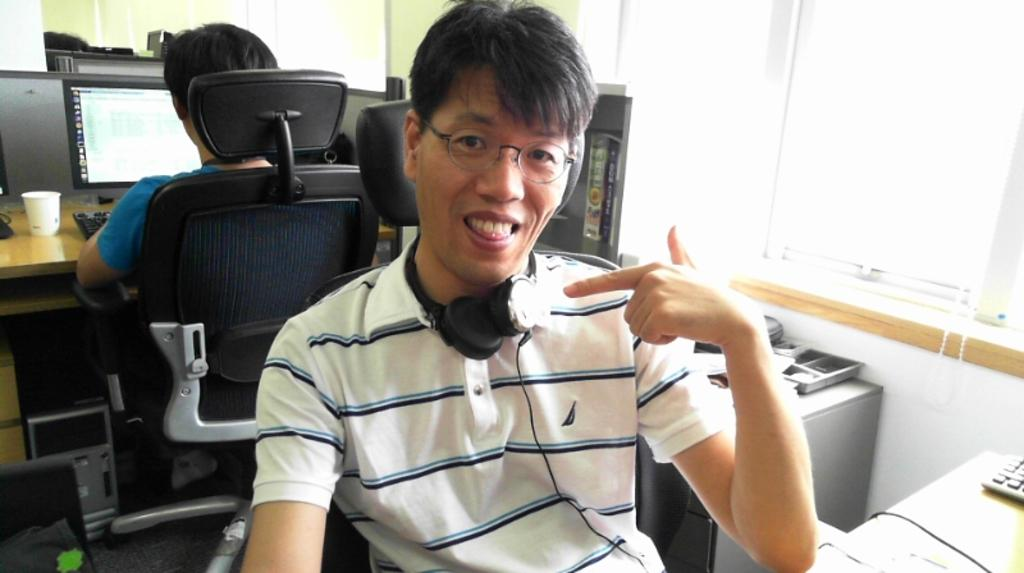Chair: (300, 95, 691, 572), (90, 95, 357, 524), (0, 458, 99, 572)
